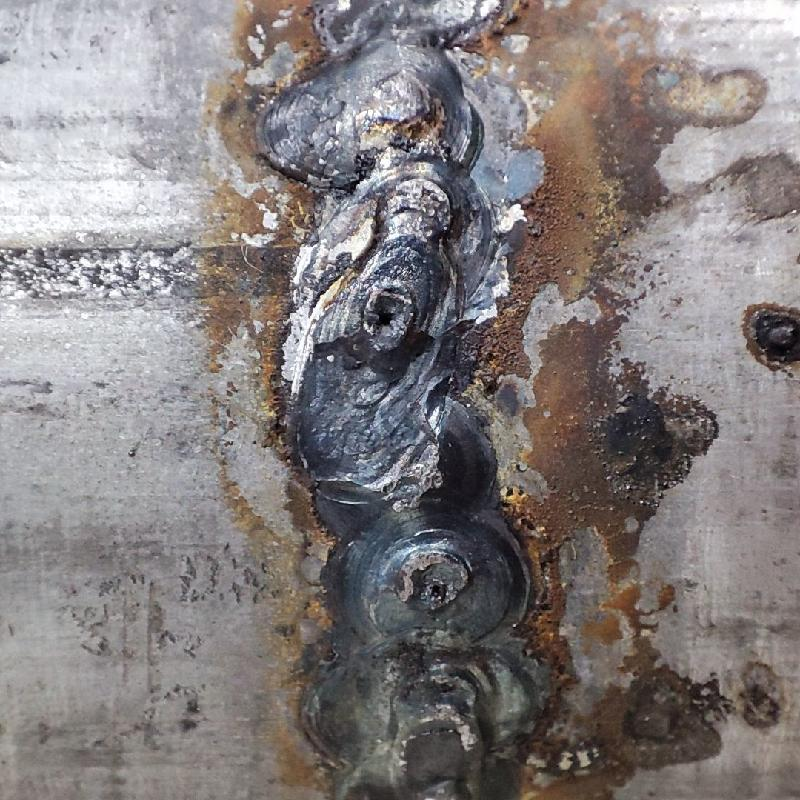Surface_pores: (398, 559, 462, 611), (363, 286, 415, 344)
wrong_size: (278, 0, 542, 797)
